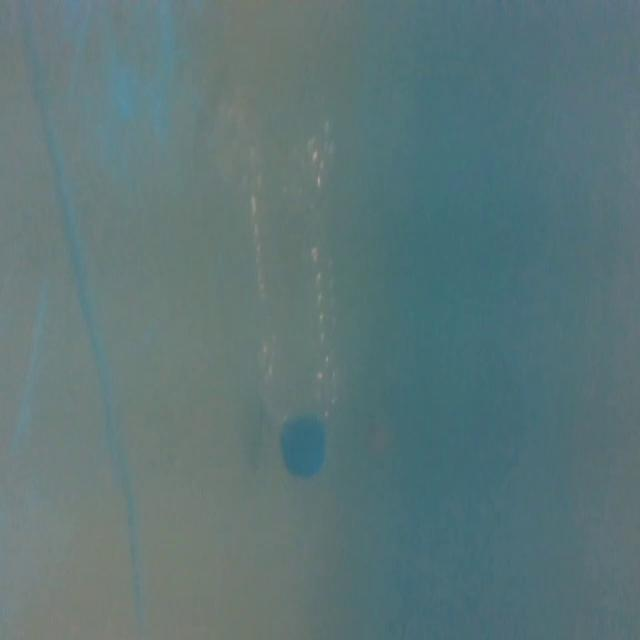plastic bottle: (231, 121, 356, 483)
